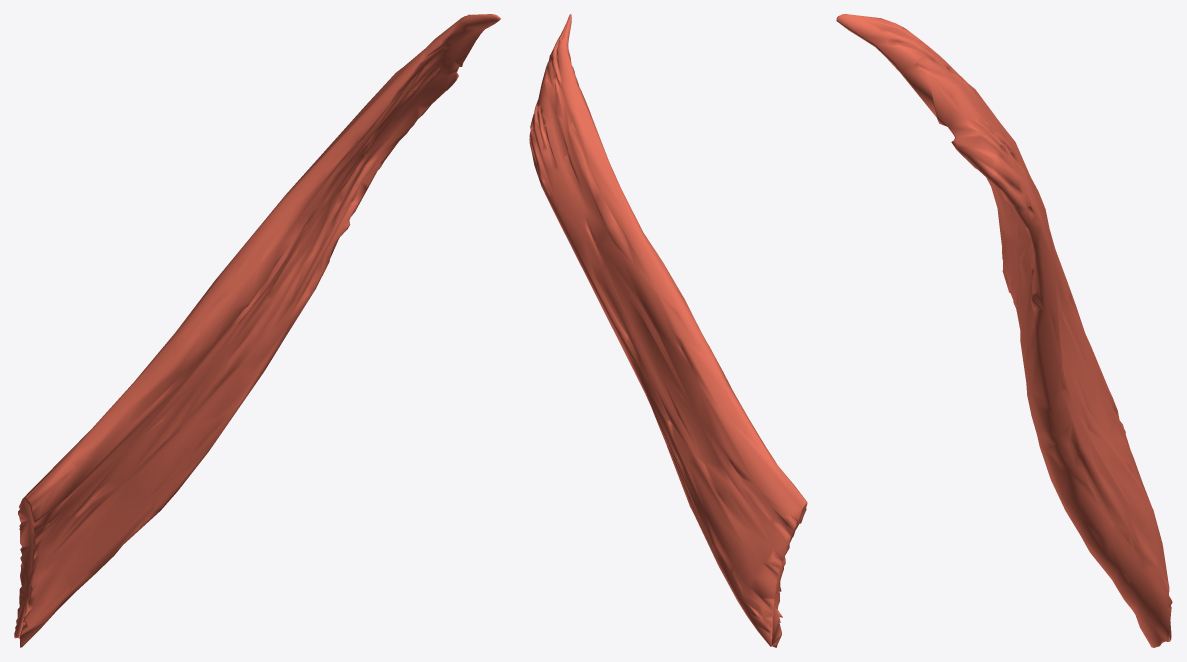
The model's file is rhomboid-minor.glb.
3 renders of one model, left to right at view 1: azimuth 30°, elevation 25°; view 2: azimuth 150°, elevation 25°; view 3: azimuth 270°, elevation 25°, orthographic. The views are drawn at different scales.
Visible parts, largest first — view 1: Rhomboid minor muscle.r; view 2: Rhomboid minor muscle.r; view 3: Rhomboid minor muscle.r.
Part boxes in pixels (x1,y1,x2,y2): Rhomboid minor muscle.r: (14, 14, 500, 647); Rhomboid minor muscle.r: (529, 14, 807, 647); Rhomboid minor muscle.r: (836, 14, 1172, 647).
Bounding box in the file's own units: 0.0654 × 0.101 × 0.0346.
